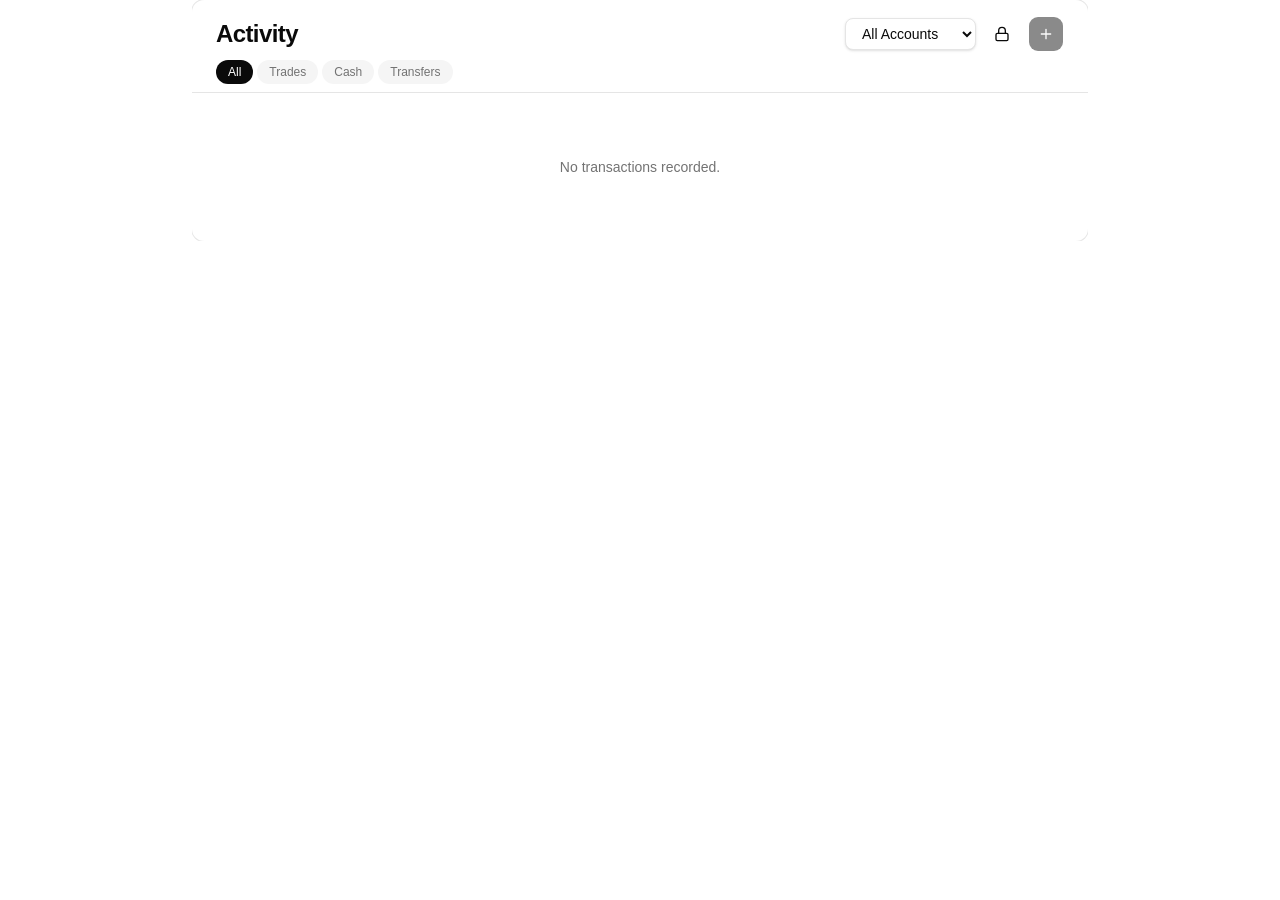
Test: ActivityPage › disables transfer creation when only one account exists
Select "Main Account" in the dropdown named "Account:". click: (910, 34)
box: [845,18,976,50]
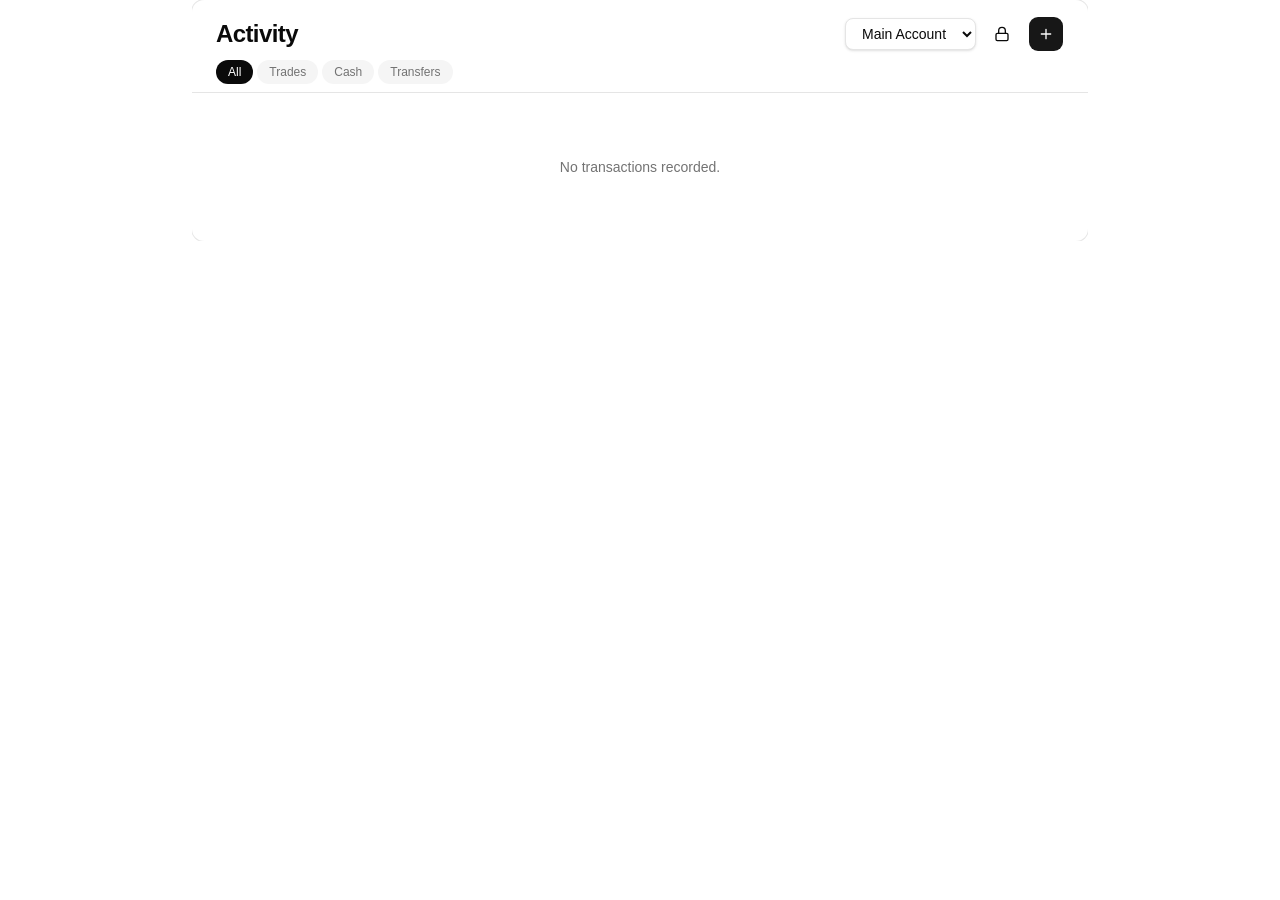
Click the button named "Add Activity". click: (1046, 34)
box: [1028,16,1064,52]
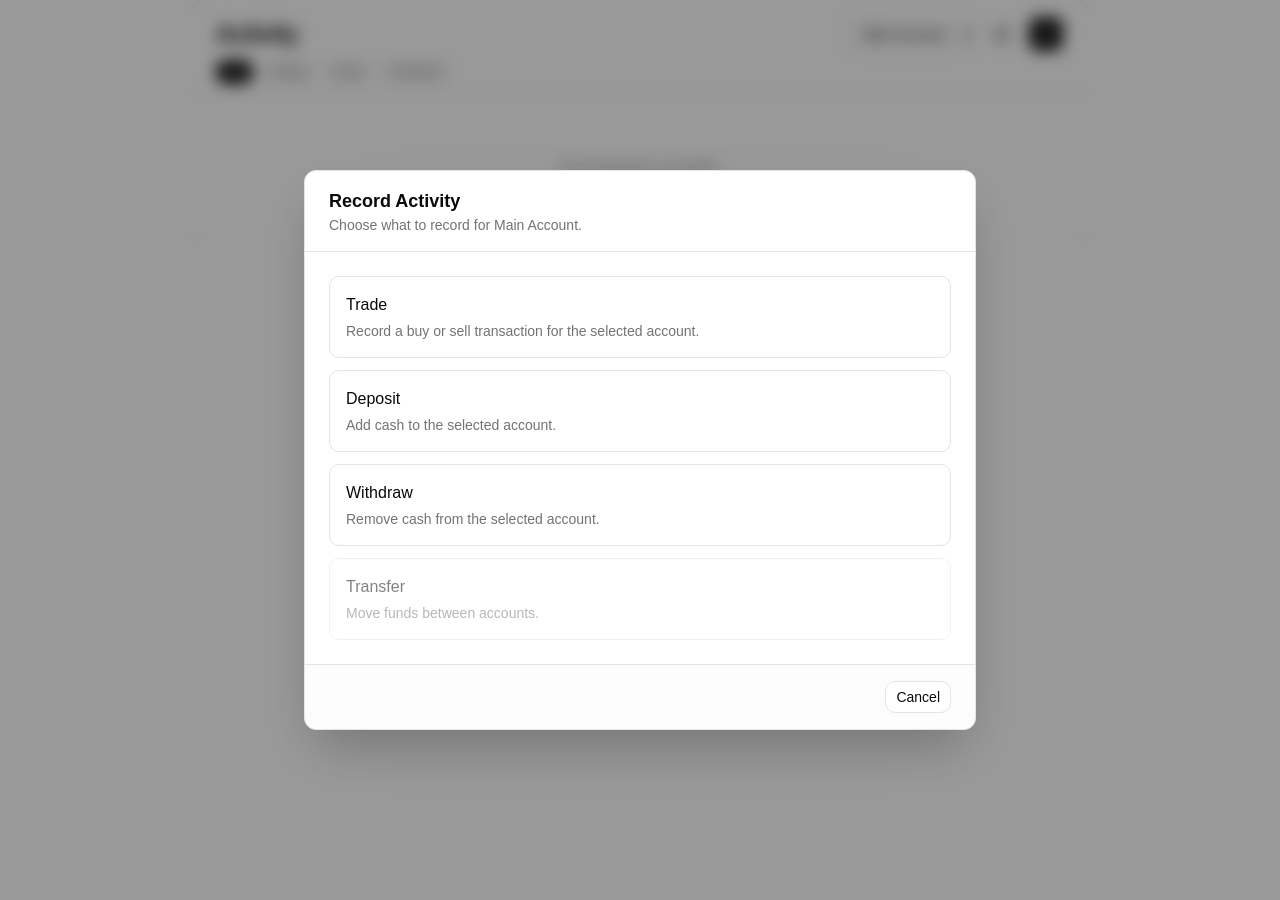
expect the button "Transfer Move funds between accounts." is disabled: met, box [329,558,951,640]
